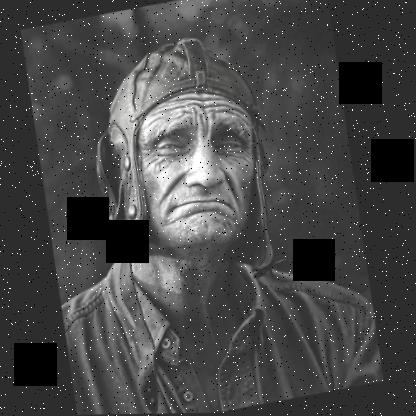Male: (125, 82, 274, 255)
